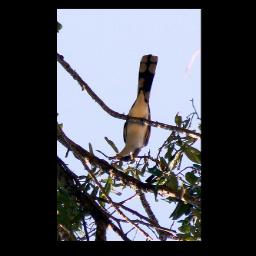Cuckoo: (109, 52, 160, 163)
